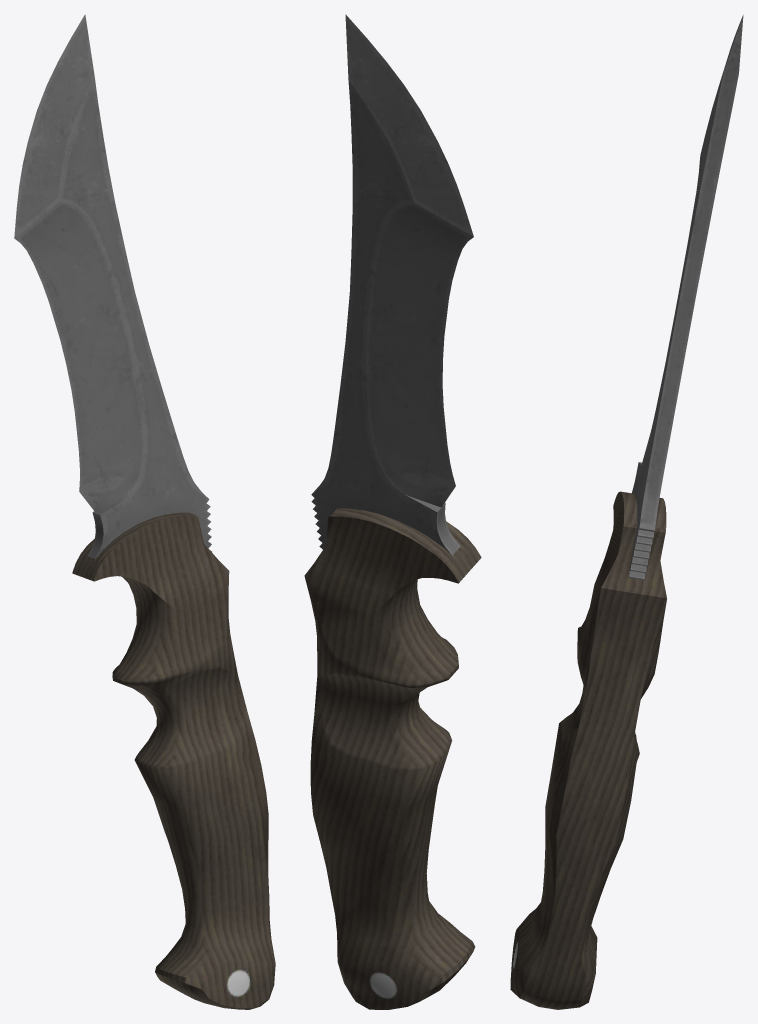
The model's file is Rampage_TP.glb.
The picture shows the model from 3 angles, left to right: view 1: azimuth 30°, elevation 25°; view 2: azimuth 150°, elevation 25°; view 3: azimuth 270°, elevation 25°; orthographic projection. The views are drawn at different scales.
Visible parts, largest first — view 1: Rampage_upd; view 2: Rampage_upd; view 3: Rampage_upd.
Boxes of the visible parts, box(x1,y1,x2,y2) form: Rampage_upd: box(14, 14, 275, 1009); Rampage_upd: box(304, 14, 481, 1009); Rampage_upd: box(510, 15, 743, 1009).
Bounding box in the file's own units: 0.0669 × 0.3197 × 0.0702.
1 material, 1 textured.
